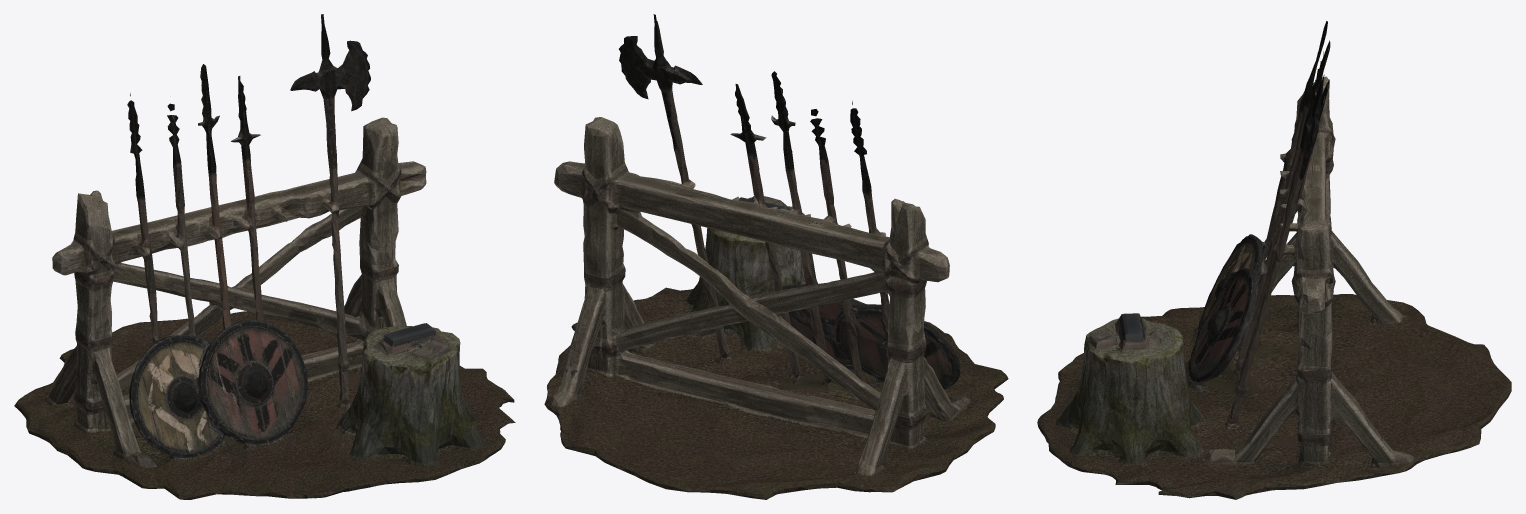
File: weapon_rack.glb
The picture shows the model from 3 angles, left to right: view 1: azimuth 30°, elevation 25°; view 2: azimuth 150°, elevation 25°; view 3: azimuth 270°, elevation 25°; orthographic projection. The views are drawn at different scales.
Visible parts, largest first — view 1: lo; view 2: lo; view 3: lo.
Boxes of the visible parts, x1,y1,x2,y2 form: lo: (14, 14, 515, 499); lo: (544, 14, 1008, 499); lo: (1037, 21, 1511, 499).
Size of the model in its own units: 2.39 by 2.02 by 2.37.
1 material, 1 textured.
